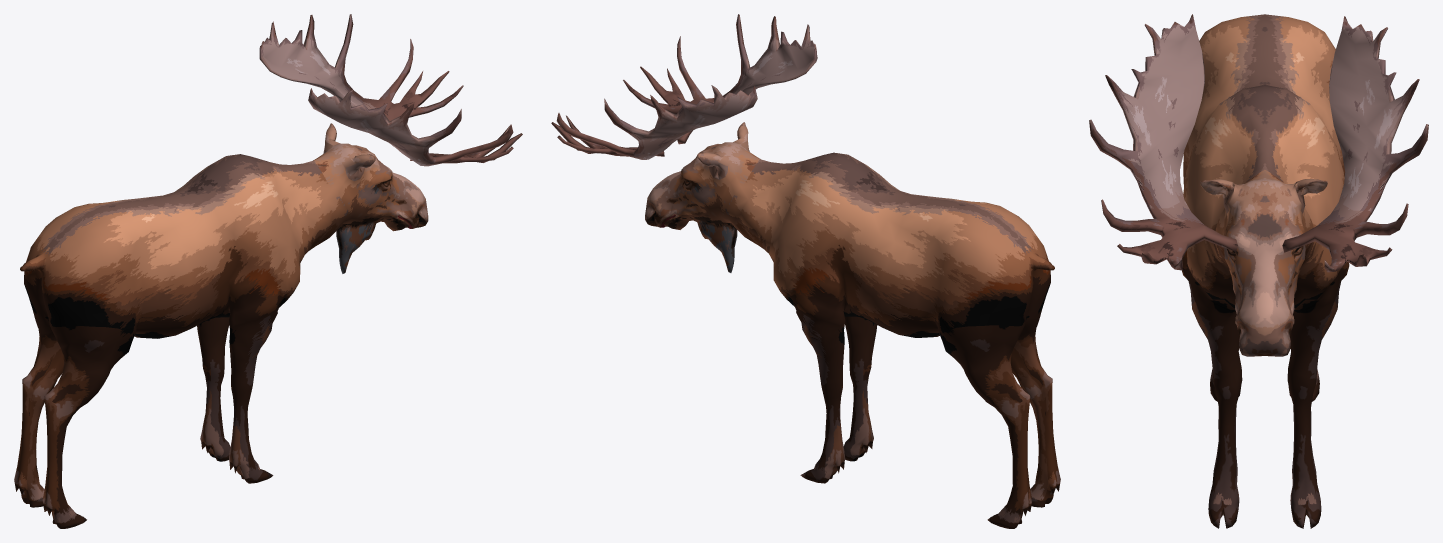
File: los.glb
3 views of the same model, side by side, from view 1: azimuth 30°, elevation 25°; view 2: azimuth 150°, elevation 25°; view 3: azimuth 270°, elevation 25° (orthographic). The views are drawn at different scales.
Visible parts, largest first — view 1: sm_1_0_1_Moose_Body_A_0, Chifre_Moose_Moose_Horn_A_0, sm_1_0_1_Moose_Head_A_0; view 2: sm_1_0_1_Moose_Body_A_0, Chifre_Moose_Moose_Horn_A_0, sm_1_0_1_Moose_Head_A_0; view 3: sm_1_0_1_Moose_Body_A_0, Chifre_Moose_Moose_Horn_A_0, sm_1_0_1_Moose_Head_A_0.
Boxes of the visible parts, x1=… form: sm_1_0_1_Moose_Body_A_0: x1=14, y1=154, x2=348, y2=528; Chifre_Moose_Moose_Horn_A_0: x1=259, y1=14, x2=522, y2=166; sm_1_0_1_Moose_Head_A_0: x1=313, y1=123, x2=428, y2=273; sm_1_0_1_Moose_Body_A_0: x1=725, y1=152, x2=1060, y2=528; Chifre_Moose_Moose_Horn_A_0: x1=551, y1=14, x2=817, y2=159; sm_1_0_1_Moose_Head_A_0: x1=645, y1=122, x2=760, y2=272; sm_1_0_1_Moose_Body_A_0: x1=1182, y1=14, x2=1349, y2=528; Chifre_Moose_Moose_Horn_A_0: x1=1089, y1=14, x2=1428, y2=272; sm_1_0_1_Moose_Head_A_0: x1=1200, y1=169, x2=1327, y2=356.
Size of the model in its own units: 2.96 by 2.4 by 1.36.
Materials: 3 (3 with a texture image).
